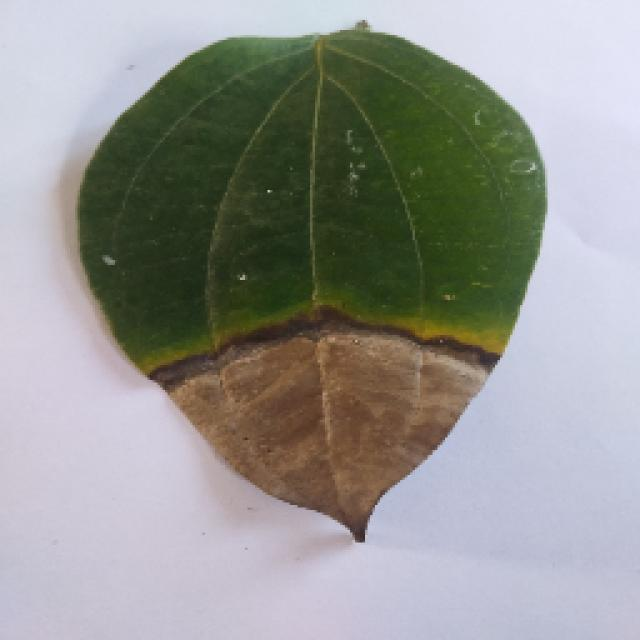footrot: (52, 28, 560, 550)
